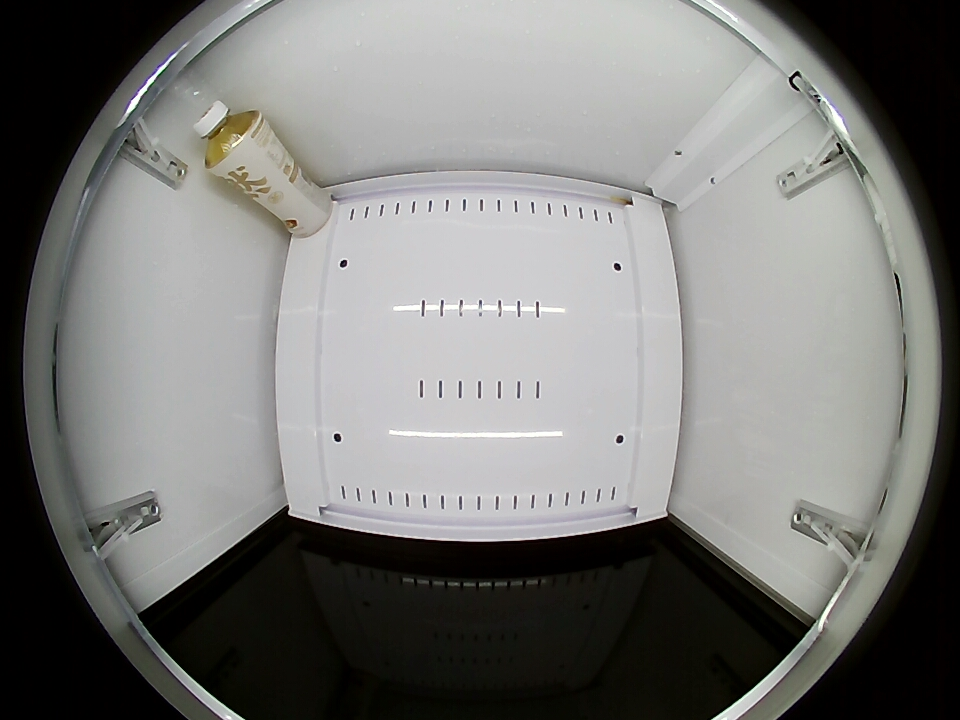rancha-2: (193, 101, 267, 176)
